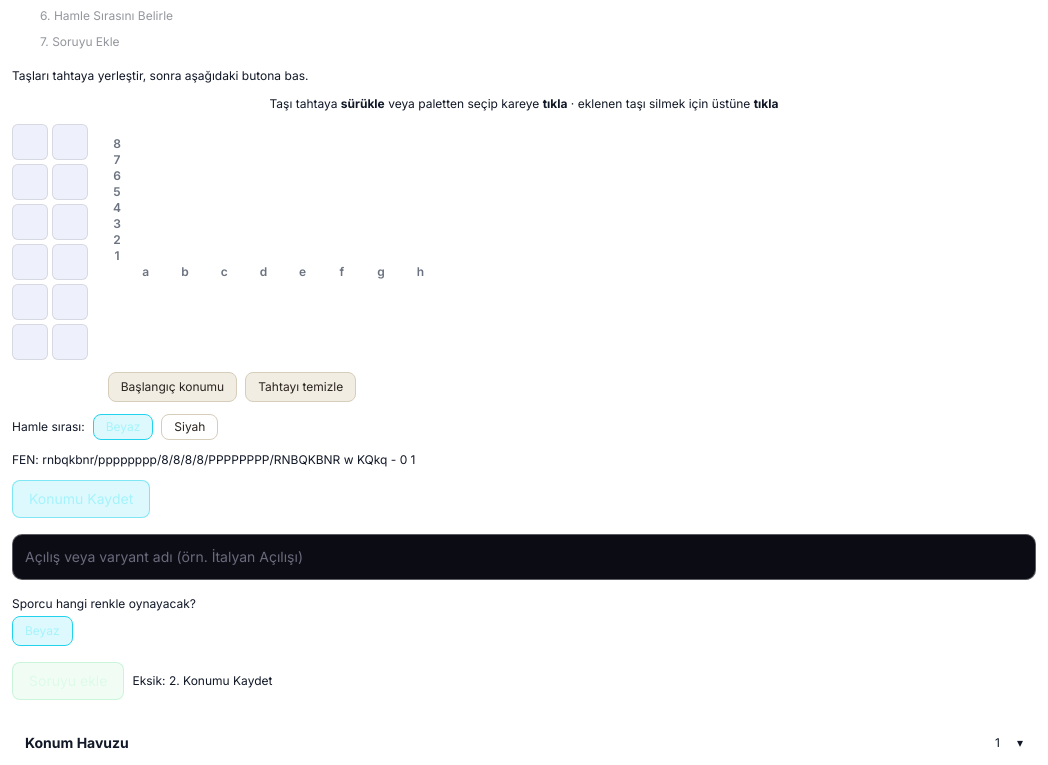
TeoriPratigiPoolView — düzenleme (Kazanç Konumu ile AYNI: tıkla-düzenle-sil) › koda tıklayınca düzenleme açılır, alanlar mevcut soruyla dolu gelir (notasyon zaten kayıtlı)
(page scrolled)
Step 1. Click the text "Konum Havuzu" → (77, 742), box [25, 734, 129, 751]
(page scrolled)
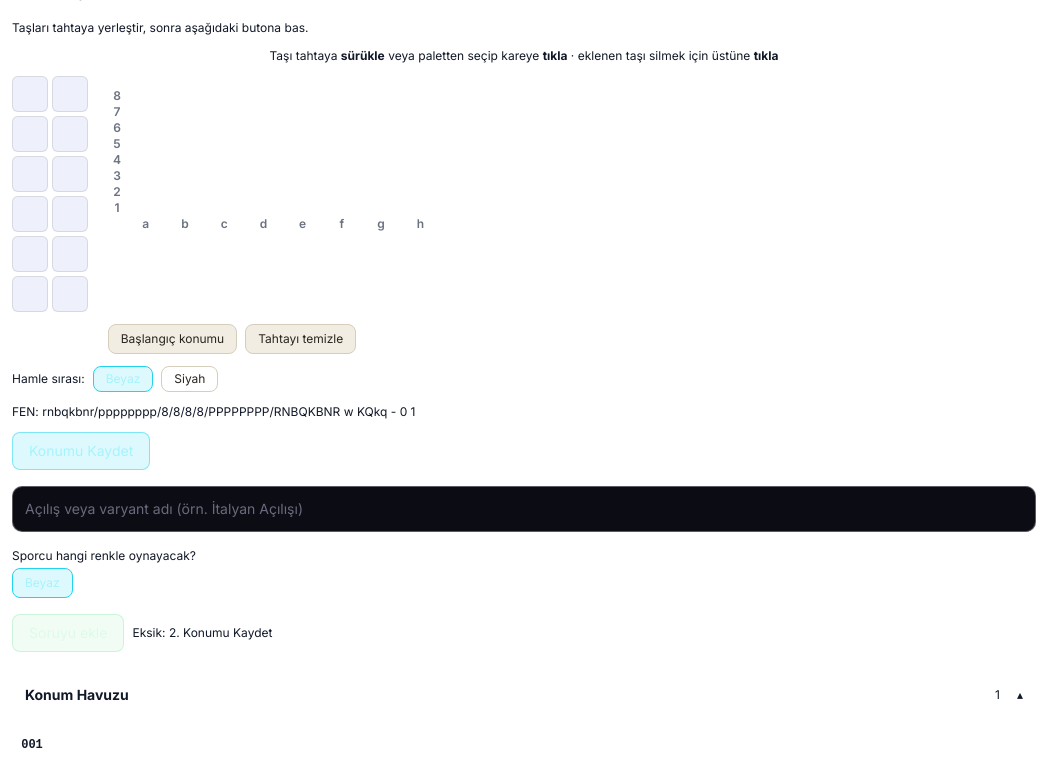
Step 2. Click the button named "Soru 001" → (32, 745), box [12, 725, 52, 764]
(page scrolled)
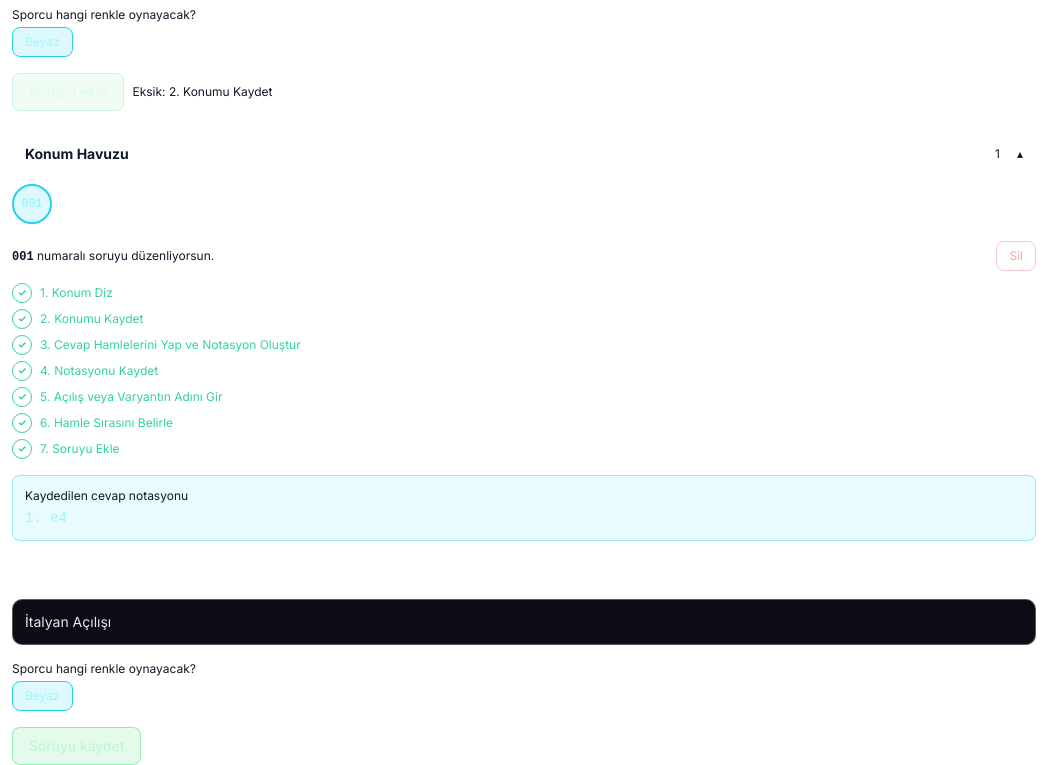
Expected: the button "Soruyu kaydet" is shown, [12, 727, 141, 764]
Expected: the text "Kaydedilen cevap notasyonu" is shown, [25, 488, 188, 503]
Expected: the field with placeholder "Açılış veya varyant adı (örn. İtalyan Açılışı)" holds "İtalyan Açılışı", [12, 599, 1036, 645]
